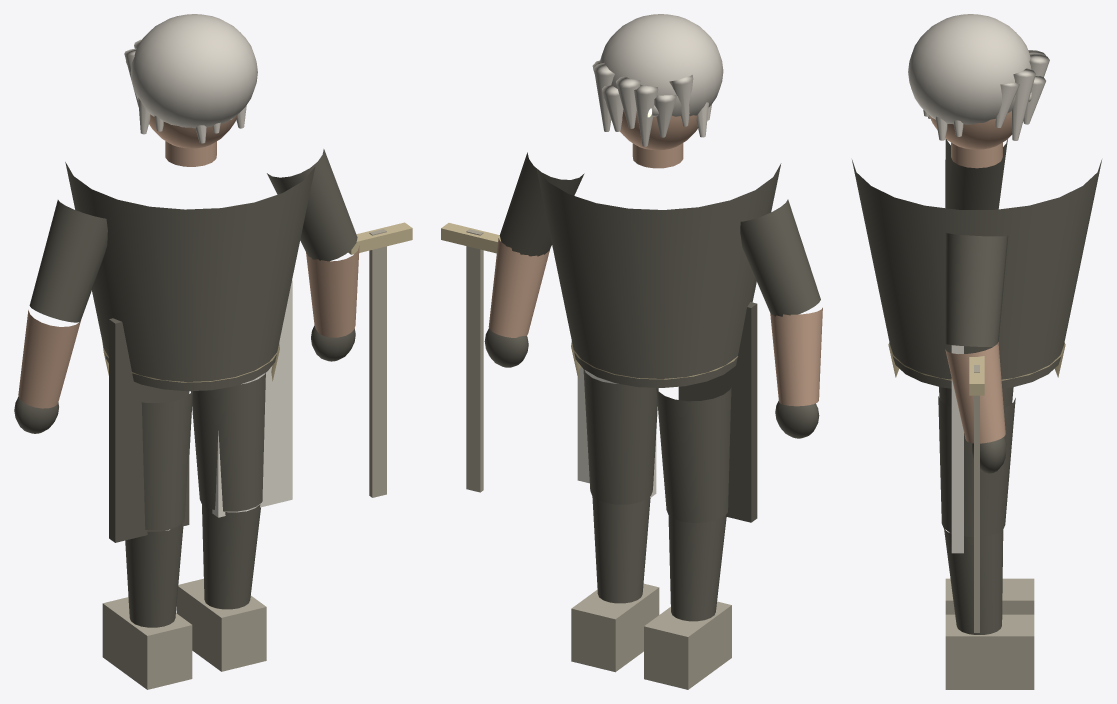
The model's file is bao-procedural-v1.glb.
3 renders of one model, left to right at view 1: azimuth 30°, elevation 25°; view 2: azimuth 150°, elevation 25°; view 3: azimuth 270°, elevation 25°, orthographic. The views are drawn at different scales.
Visible parts, largest first — view 1: Outfit_Torso, Hair_Cap, Body_Thigh_R, Outfit_CoatTail_L, Body_UpperArm_L, Body_Thigh_L, Outfit_Boot_L, Outfit_CoatTail_R, Outfit_Boot_R, Body_Shin_R, Body_Shin_L, Weapon_SwordBlade (+8 smaller); view 2: Outfit_Torso, Body_Thigh_L, Body_Thigh_R, Hair_Cap, Outfit_CoatTail_L, Body_UpperArm_L, Outfit_Boot_L, Outfit_Boot_R, Body_Shin_R, Body_Shin_L, Weapon_SwordBlade, Body_Forearm_L (+14 smaller); view 3: Outfit_Torso, Hair_Cap, Body_UpperArm_R, Outfit_Boot_R, Body_Thigh_R, Body_Shin_R, Body_Forearm_R, Body_UpperArm_L, Outfit_CoatTail_R, Body_Head, Outfit_Boot_L, Weapon_SwordBlade (+8 smaller).
Part boxes in pixels (x1,y1,x2,y2): Outfit_Torso: (65,162,315,391); Hair_Cap: (130,14,257,128); Body_Thigh_R: (191,373,265,511); Outfit_CoatTail_L: (109,318,189,542); Body_UpperArm_L: (29,200,107,322); Body_Thigh_L: (141,391,192,530); Outfit_Boot_L: (102,597,192,689); Outfit_CoatTail_R: (212,280,292,517); Outfit_Boot_R: (176,578,266,671); Body_Shin_R: (202,504,260,609); Body_Shin_L: (125,523,183,627); Weapon_SwordBlade: (369,229,386,497); Outfit_Torso: (536,163,781,387); Body_Thigh_L: (656,387,731,522); Body_Thigh_R: (583,369,658,504); Hair_Cap: (600,14,723,116); Outfit_CoatTail_L: (678,302,757,522); Body_UpperArm_L: (740,199,820,316); Outfit_Boot_L: (644,601,731,689); Outfit_Boot_R: (571,583,659,672); Body_Shin_R: (592,496,650,603); Body_Shin_L: (668,514,726,621); Weapon_SwordBlade: (466,229,483,492); Body_Forearm_L: (770,307,822,406); Outfit_Torso: (852,160,1101,388); Hair_Cap: (908,14,1031,124); Body_UpperArm_R: (945,233,1008,346); Outfit_Boot_R: (945,614,1034,689); Body_Thigh_R: (938,396,1015,536); Body_Shin_R: (944,528,1003,634); Body_Forearm_R: (945,342,1005,443); Body_UpperArm_L: (945,139,1007,209); Outfit_CoatTail_R: (951,345,963,553); Body_Head: (929,111,1012,149); Outfit_Boot_L: (945,578,1034,614); Weapon_SwordBlade: (974,365,979,632).
Size of the model in its own units: 1.27 by 2.03 by 0.722.
